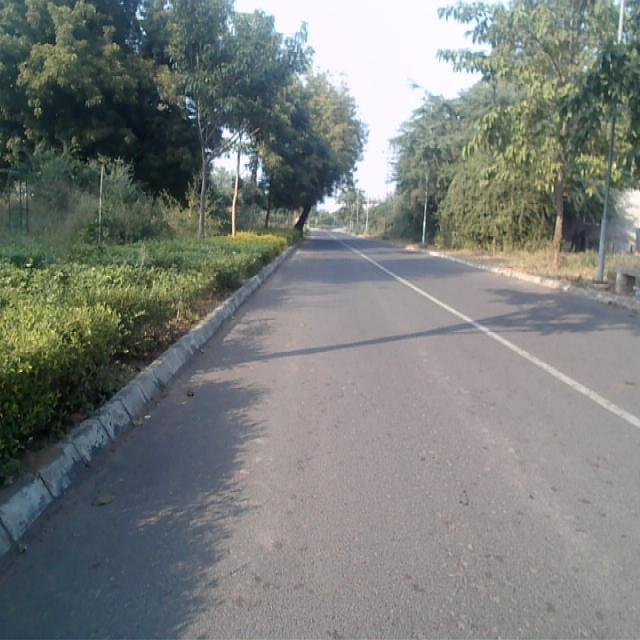lane: (0, 230, 640, 640)
